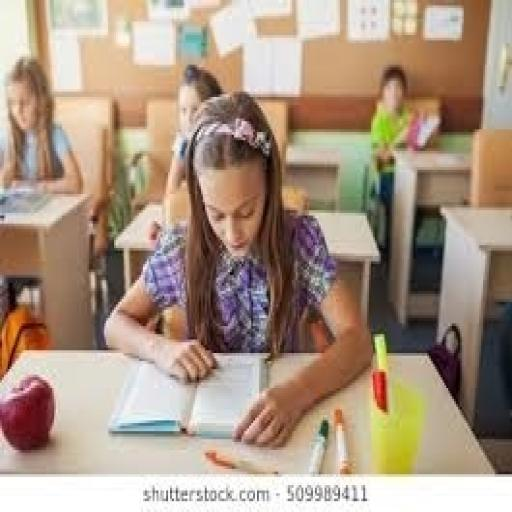sitting: (102, 86, 373, 448), (0, 54, 85, 197)
